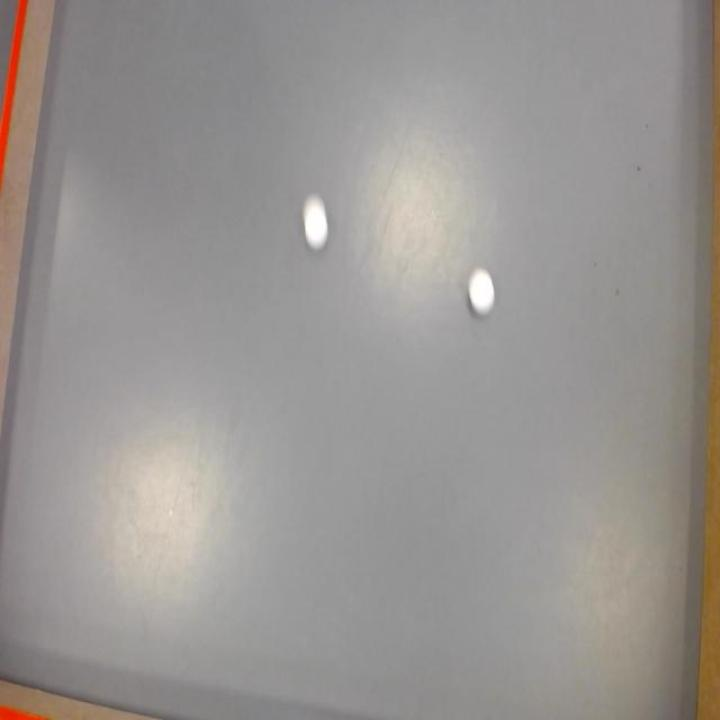white: (304, 196, 330, 254), (470, 270, 495, 313)
